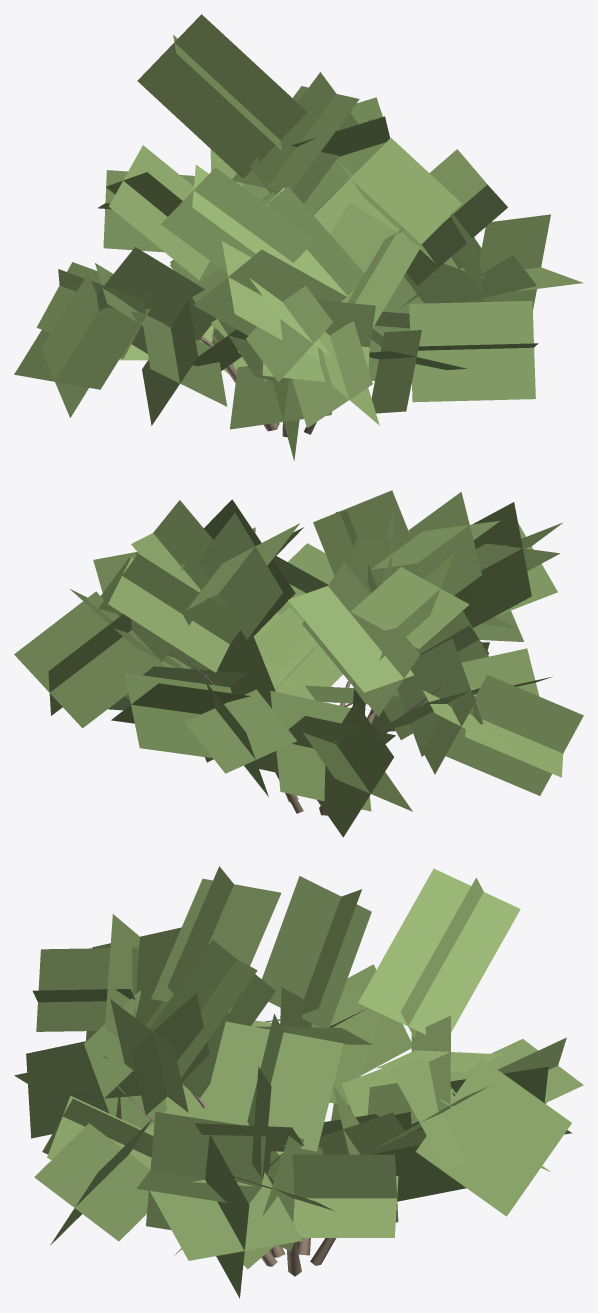
Rendered from Hazel_3_lod1.glb.
3 views of the same model, one above another, from view 1: azimuth 30°, elevation 25°; view 2: azimuth 150°, elevation 25°; view 3: azimuth 270°, elevation 25° (orthographic). The views are drawn at different scales.
Parts seen in each view (by area): view 1: Hazel_3_lod1; view 2: Hazel_3_lod1; view 3: Hazel_3_lod1.
Boxes of the visible parts, bbox=[...] form: Hazel_3_lod1: bbox=[14, 14, 582, 460]; Hazel_3_lod1: bbox=[14, 490, 583, 837]; Hazel_3_lod1: bbox=[14, 866, 583, 1298].
Size of the model in its own units: 4.1 by 2.76 by 3.71.
